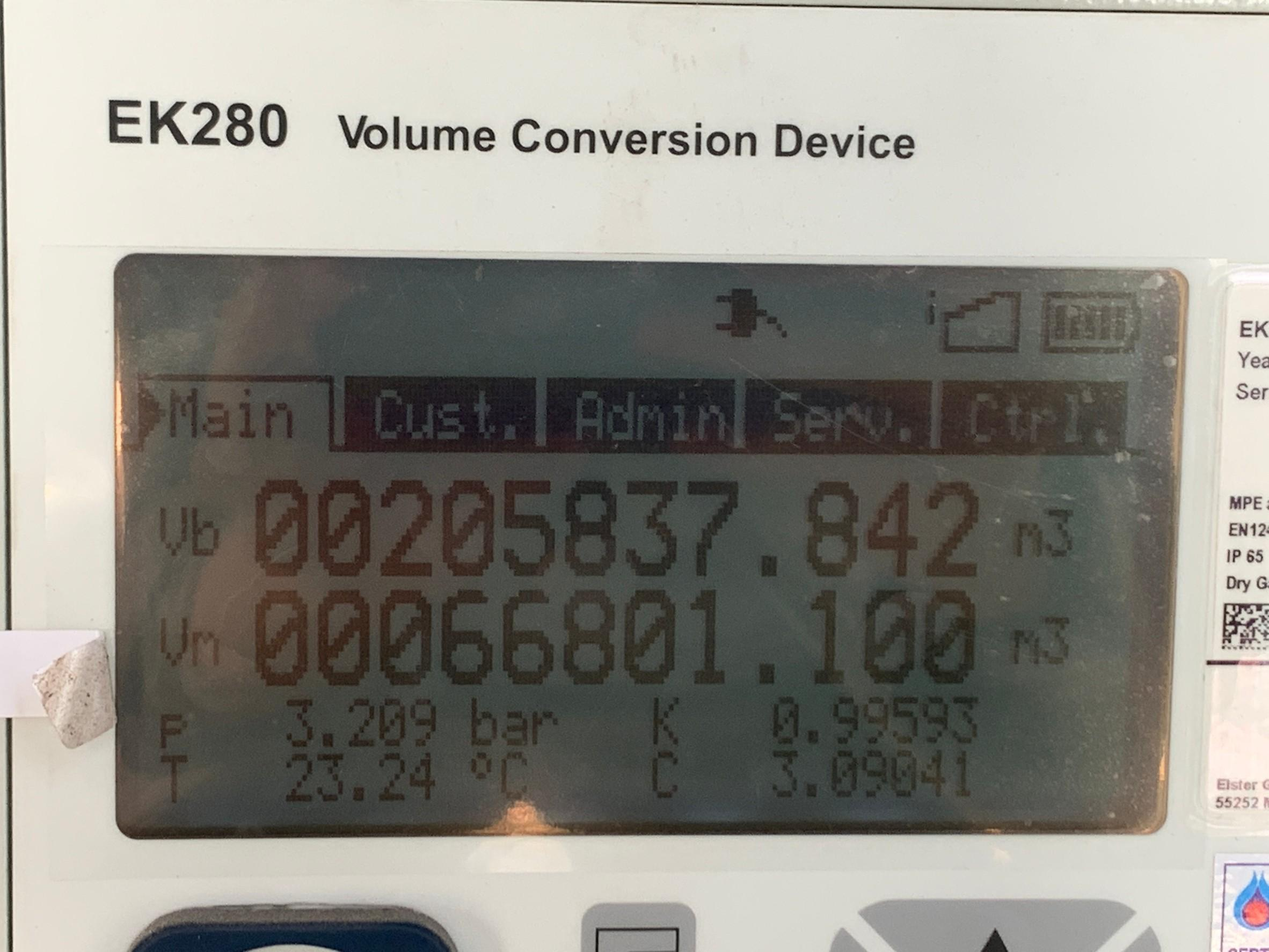digital_screen: (119, 258, 1186, 834)
